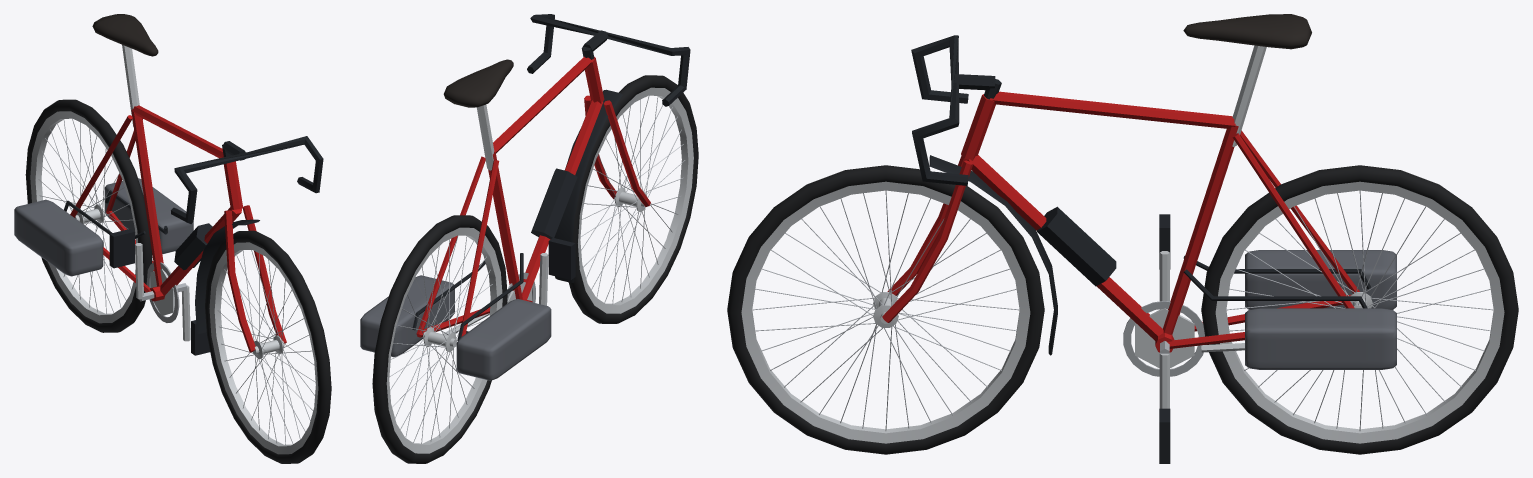
Rendered from bicycle.glb.
3 views of the same model, side by side, from view 1: azimuth 30°, elevation 25°; view 2: azimuth 150°, elevation 25°; view 3: azimuth 270°, elevation 25° (orthographic). The views are drawn at different scales.
Parts seen in each view (by area): view 1: traveler_bicycle_parked, front_wheel, rear_wheel, steer, crank, pedal_right, pedal_left; view 2: traveler_bicycle_parked, rear_wheel, front_wheel, steer, pedal_right, crank; view 3: traveler_bicycle_parked, front_wheel, rear_wheel, steer, crank.
Part boxes in pixels (<box>): traveler_bicycle_parked: <box>14,14,242,301</box>; front_wheel: <box>205,230,331,463</box>; rear_wheel: <box>25,99,152,332</box>; steer: <box>171,136,323,352</box>; crank: <box>135,243,190,341</box>; pedal_right: <box>109,229,134,268</box>; pedal_left: <box>191,320,210,355</box>; traveler_bicycle_parked: <box>360,56,604,380</box>; rear_wheel: <box>372,215,507,463</box>; front_wheel: <box>568,75,698,323</box>; steer: <box>527,14,690,282</box>; pedal_right: <box>548,238,575,279</box>; crank: <box>490,253,548,305</box>; traveler_bicycle_parked: <box>961,14,1396,369</box>; front_wheel: <box>727,165,1044,454</box>; rear_wheel: <box>1201,165,1518,454</box>; steer: <box>882,35,1057,355</box>; crank: <box>1123,251,1204,408</box>.
Size of the model in its own units: 0.4422 by 1.04 by 1.72.
